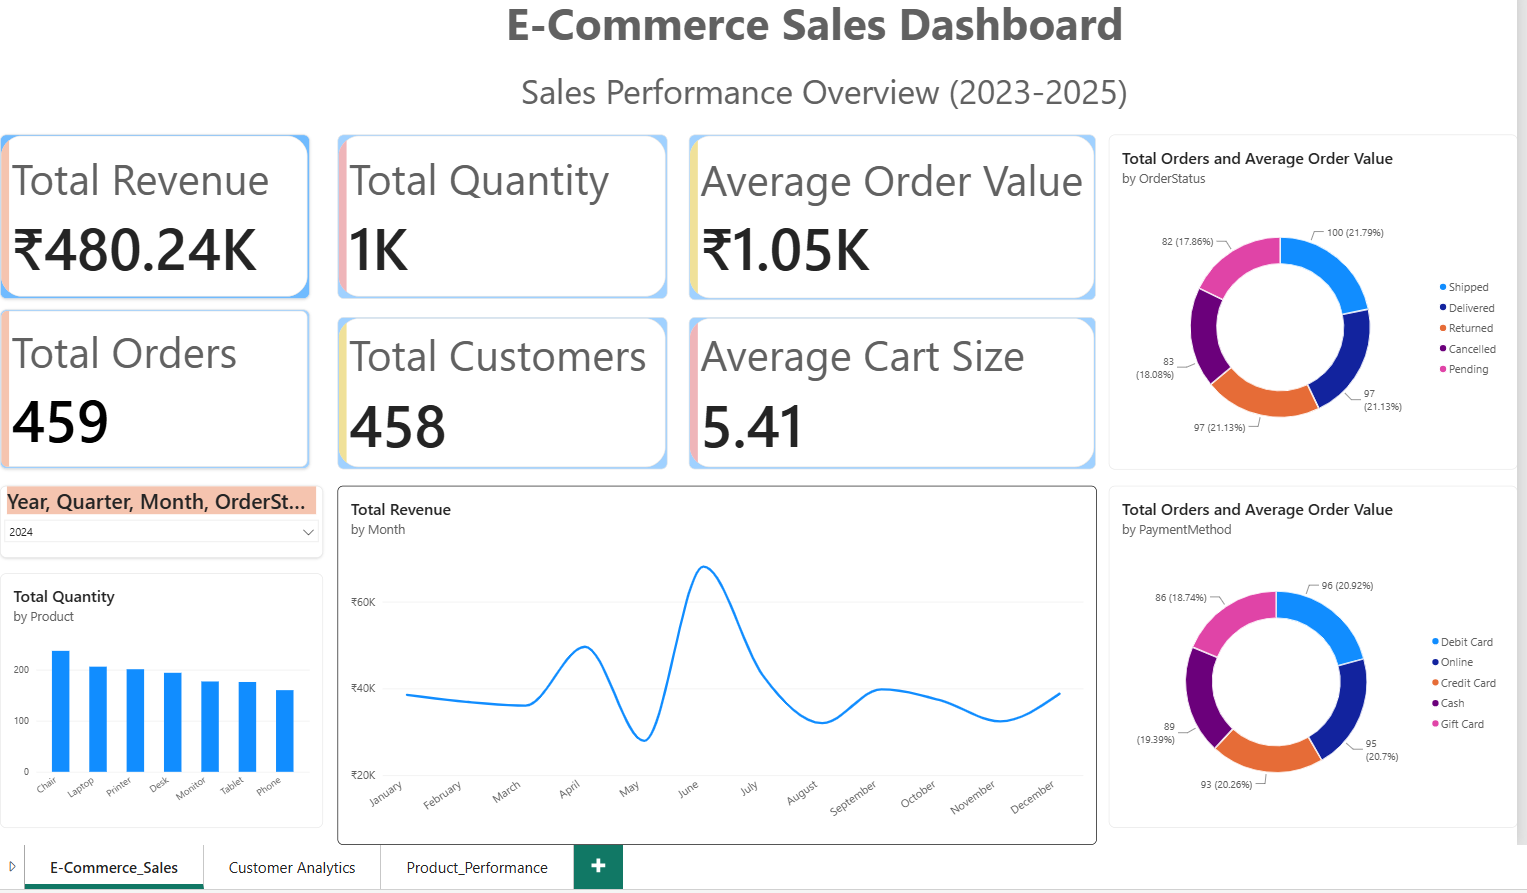

The page's visual inventory and layout, read from the dashboard file:
{"tool":"powerbi","page":{"name":"E-Commerce_Sales","canvas":[1920,1080],"ordinal":0},"visuals":[{"type":"cardVisual","fields":{"Data":["Cleaned_dataset.Total Revenue"]},"box":[0,179.6,391.7,207.8],"z":0},{"type":"cardVisual","fields":{"Data":["Cleaned_dataset.Total Orders"]},"box":[0,402.5,391.7,201.3],"z":1000},{"type":"cardVisual","fields":{"Data":["Cleaned_dataset.Total Customers"]},"box":[426.3,411.2,417.7,192.6],"z":2000},{"type":"cardVisual","fields":{"Data":["Cleaned_dataset.Total Quantity"]},"box":[426.3,179.6,417.7,207.8],"z":3000},{"type":"cardVisual","fields":{"Data":["Cleaned_dataset.Average Order Value"]},"box":[872.1,179.6,515.1,209.9],"z":4000},{"type":"cardVisual","fields":{"Data":["Cleaned_dataset.Average Cart Size"]},"box":[872.1,411.2,515.1,192.6],"z":5000},{"type":"textbox","box":[608.7,0,915.7,96.1],"z":6000},{"type":"textbox","box":[636.3,95.2,828.9,108.2],"z":7000},{"type":"slicer","fields":{"Values":["Cleaned_dataset.Date.Variation.Date Hierarchy.Year","Cleaned_dataset.Date.Variation.Date Hierarchy.Quarter","Cleaned_dataset.Date.Variation.Date Hierarchy.Month","Cleaned_dataset.OrderStatus","Cleaned_dataset.Product","Cleaned_dataset.PaymentMethod"]},"box":[0,625.4,409,90.9],"z":8000},{"type":"lineChart","fields":{"Category":["Cleaned_dataset.Date.Variation.Date Hierarchy.Year","Cleaned_dataset.Date.Variation.Date Hierarchy.Quarter","Cleaned_dataset.Date.Variation.Date Hierarchy.Month","Cleaned_dataset.Date.Variation.Date Hierarchy.Day"],"Y":["Cleaned_dataset.Total Revenue"]},"box":[426.3,625.4,960.9,454.5],"z":9000},{"type":"donutChart","fields":{"Category":["Cleaned_dataset.OrderStatus"],"Y":["Cleaned_dataset.Total Orders"]},"box":[1402.4,179.6,517.2,424.2],"z":10000},{"type":"donutChart","fields":{"Category":["Cleaned_dataset.PaymentMethod"],"Y":["Cleaned_dataset.Total Orders"]},"box":[1402.4,625.4,517.2,432.8],"z":11000},{"type":"columnChart","fields":{"Category":["Cleaned_dataset.Product"],"Y":["Cleaned_dataset.Total Quantity"]},"box":[0,735.8,409,322.5],"z":12000}]}

Visuals, with their boxes on the page's 1920x1080 design canvas (x1, y1, x2, y2). These are canvas units, not pixel positions in the 1527x893 screenshot, which may show the page scaled, cropped or inside an application window:
cardVisual - Cleaned_dataset.Total Revenue: bbox=(0, 180, 392, 387)
cardVisual - Cleaned_dataset.Total Orders: bbox=(0, 402, 392, 604)
cardVisual - Cleaned_dataset.Total Customers: bbox=(426, 411, 844, 604)
cardVisual - Cleaned_dataset.Total Quantity: bbox=(426, 180, 844, 387)
cardVisual - Cleaned_dataset.Average Order Value: bbox=(872, 180, 1387, 390)
cardVisual - Cleaned_dataset.Average Cart Size: bbox=(872, 411, 1387, 604)
textbox: bbox=(609, 0, 1524, 96)
textbox: bbox=(636, 95, 1465, 203)
slicer - Cleaned_dataset.Date.Variation.Date Hierarchy.Year x Cleaned_dataset.Date.Variation.Date Hierarchy.Quarter: bbox=(0, 625, 409, 716)
lineChart - Cleaned_dataset.Date.Variation.Date Hierarchy.Year x Cleaned_dataset.Date.Variation.Date Hierarchy.Quarter: bbox=(426, 625, 1387, 1080)
donutChart - Cleaned_dataset.OrderStatus x Cleaned_dataset.Total Orders: bbox=(1402, 180, 1920, 604)
donutChart - Cleaned_dataset.PaymentMethod x Cleaned_dataset.Total Orders: bbox=(1402, 625, 1920, 1058)
columnChart - Cleaned_dataset.Product x Cleaned_dataset.Total Quantity: bbox=(0, 736, 409, 1058)
